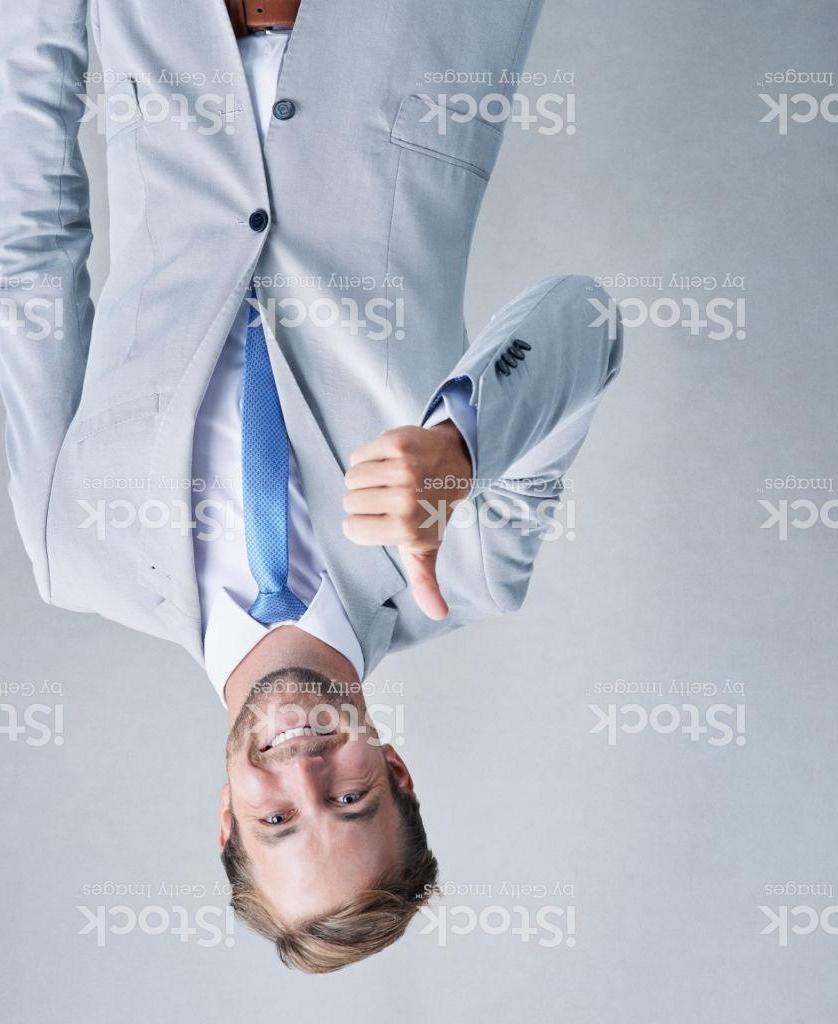thumbsdown: (337, 424, 456, 623)
